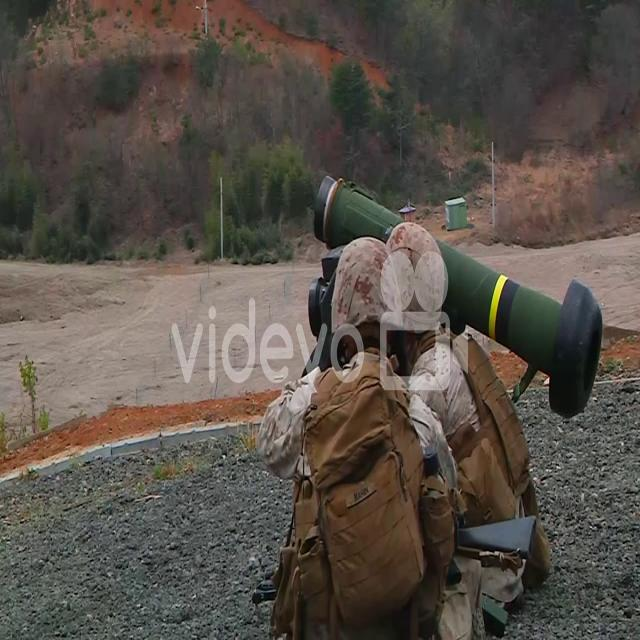rocket: (316, 173, 602, 417)
